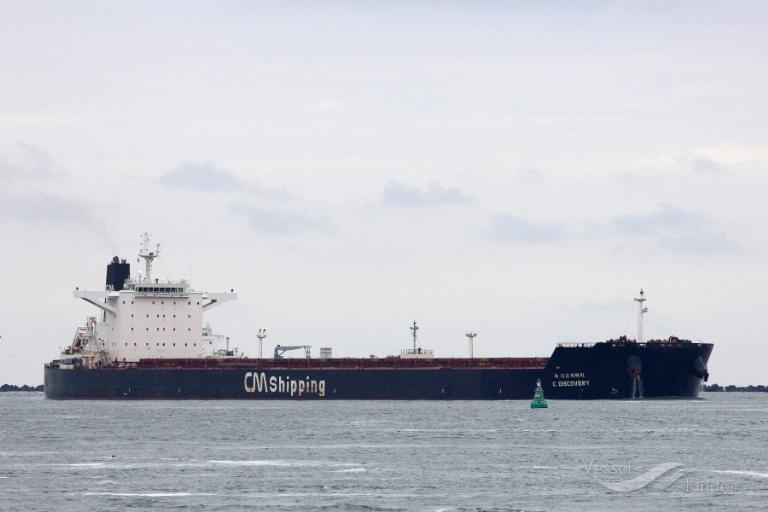OCR: (240, 367, 332, 400), (544, 366, 594, 394)
